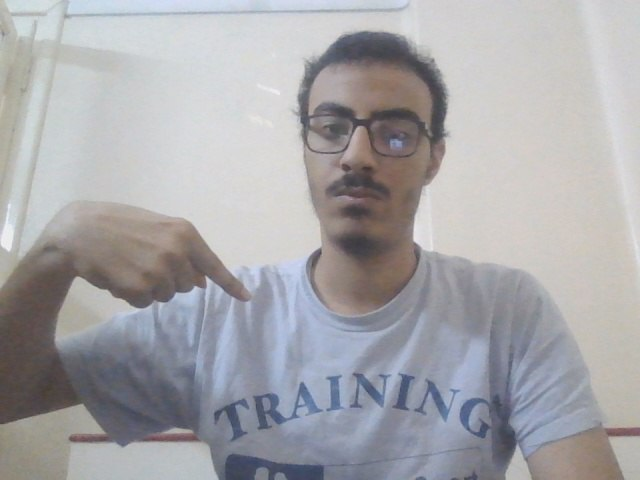Me: (40, 184, 255, 318)
